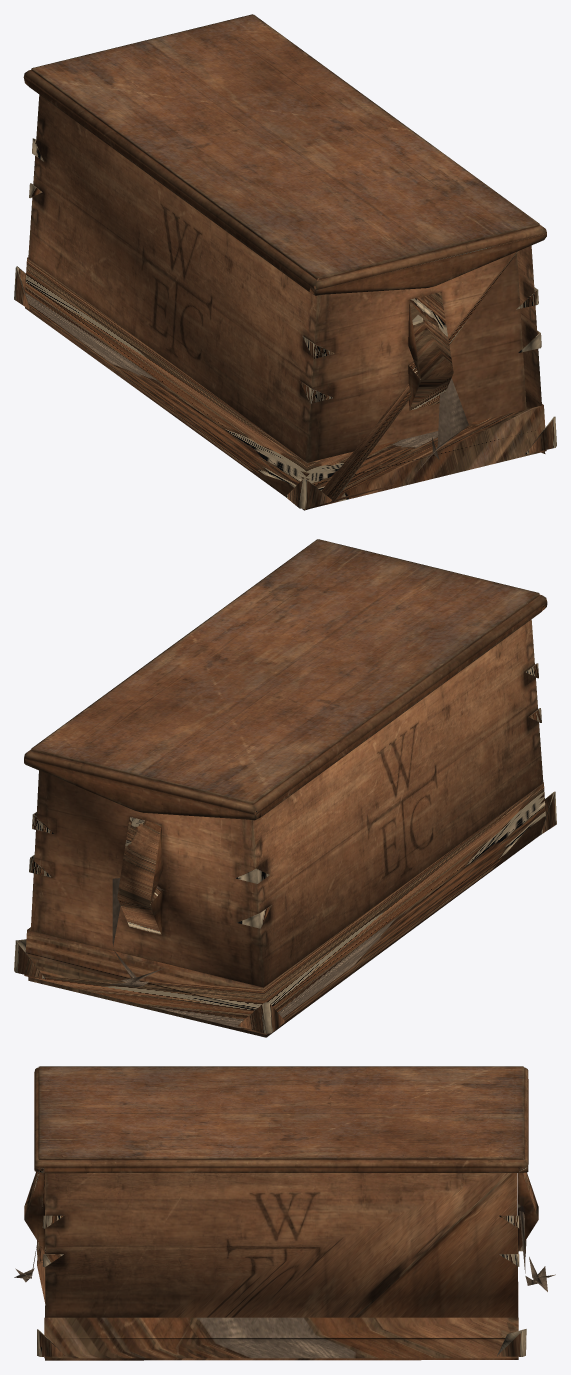
3 views of the same model, one above another, from view 1: azimuth 30°, elevation 25°; view 2: azimuth 150°, elevation 25°; view 3: azimuth 270°, elevation 25° (orthographic). The views are drawn at different scales.
Visible parts, largest first — view 1: wooden_crate_02-0, wooden_crate_02-1; view 2: wooden_crate_02-0, wooden_crate_02-1; view 3: wooden_crate_02-0, wooden_crate_02-1.
Part boxes in pixels (x1,y1,x2,y2): wooden_crate_02-0: (14, 95, 556, 510); wooden_crate_02-1: (23, 14, 546, 295); wooden_crate_02-0: (14, 619, 556, 1037); wooden_crate_02-1: (24, 539, 547, 820); wooden_crate_02-0: (14, 1171, 555, 1360); wooden_crate_02-1: (34, 1066, 528, 1173).
Size of the model in its own units: 1.14 by 0.9971 by 2.46.
1 material, 1 textured.
